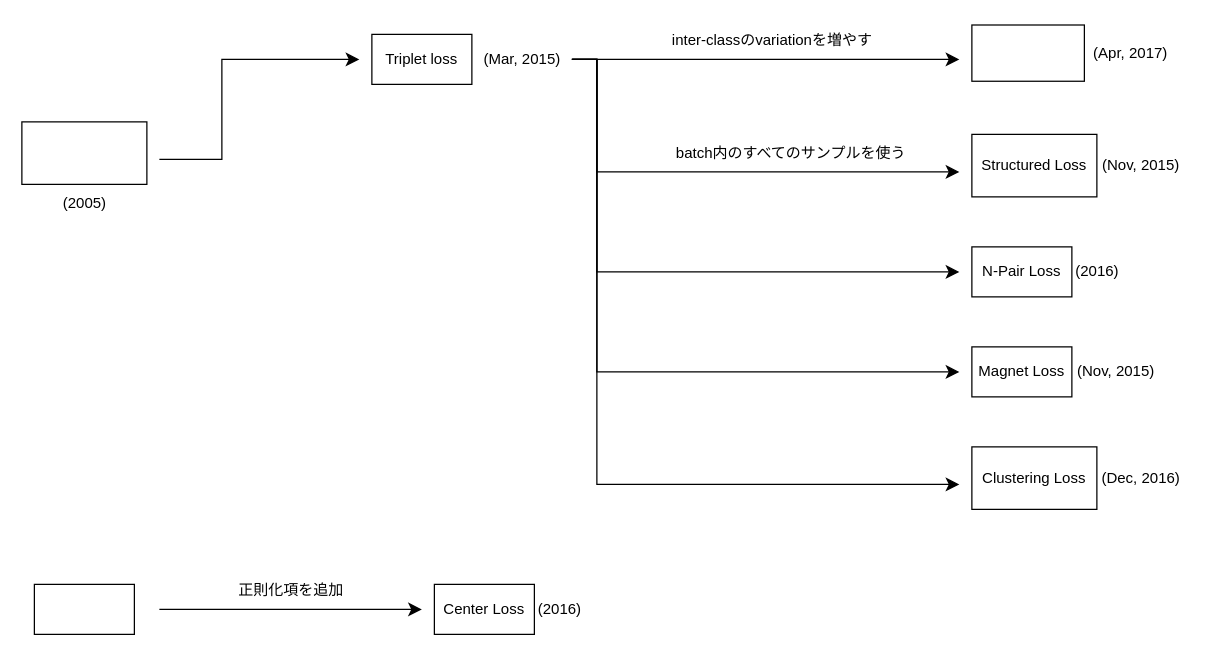
Some shapes in this 1219 by 656 pixel diagram are drawn without their labels. Each missing label, with the centre of its shape:
"Contrastive loss" goes at pixel 84 152.
"Quadruple Loss" goes at pixel 1027 52.
"Softmax loss" goes at pixel 83 608.
